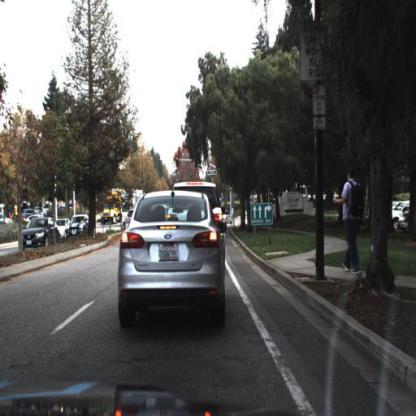car: (117, 189, 226, 335), (24, 218, 59, 248), (66, 215, 91, 236), (209, 186, 221, 226), (56, 218, 70, 236)
pedestrian: (341, 164, 364, 273)
trafficLight: (176, 157, 181, 168)
trafficLight-RedLeft: (174, 155, 182, 171)
truck: (102, 188, 143, 224), (120, 191, 144, 228)
